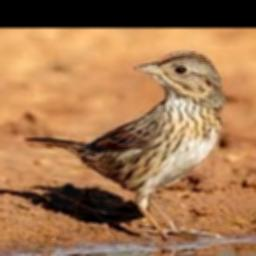Sparrow: (24, 50, 224, 239)
